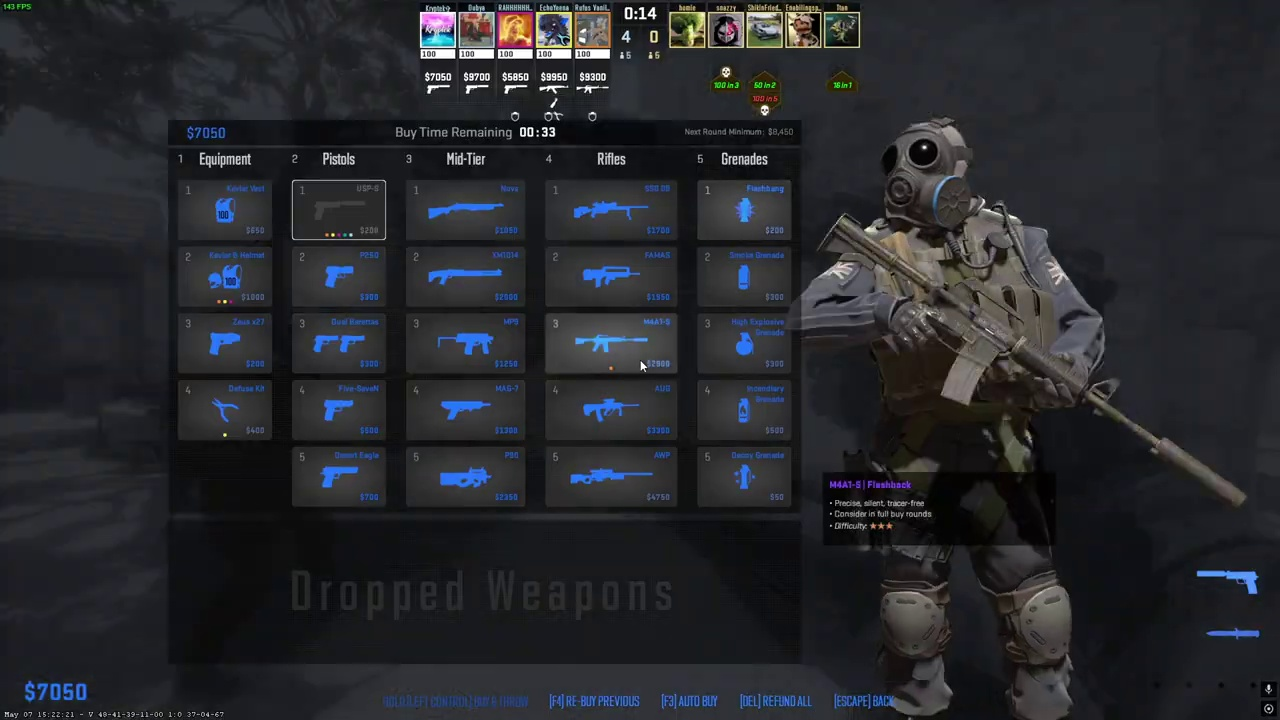CT: (850, 122, 1093, 720)
